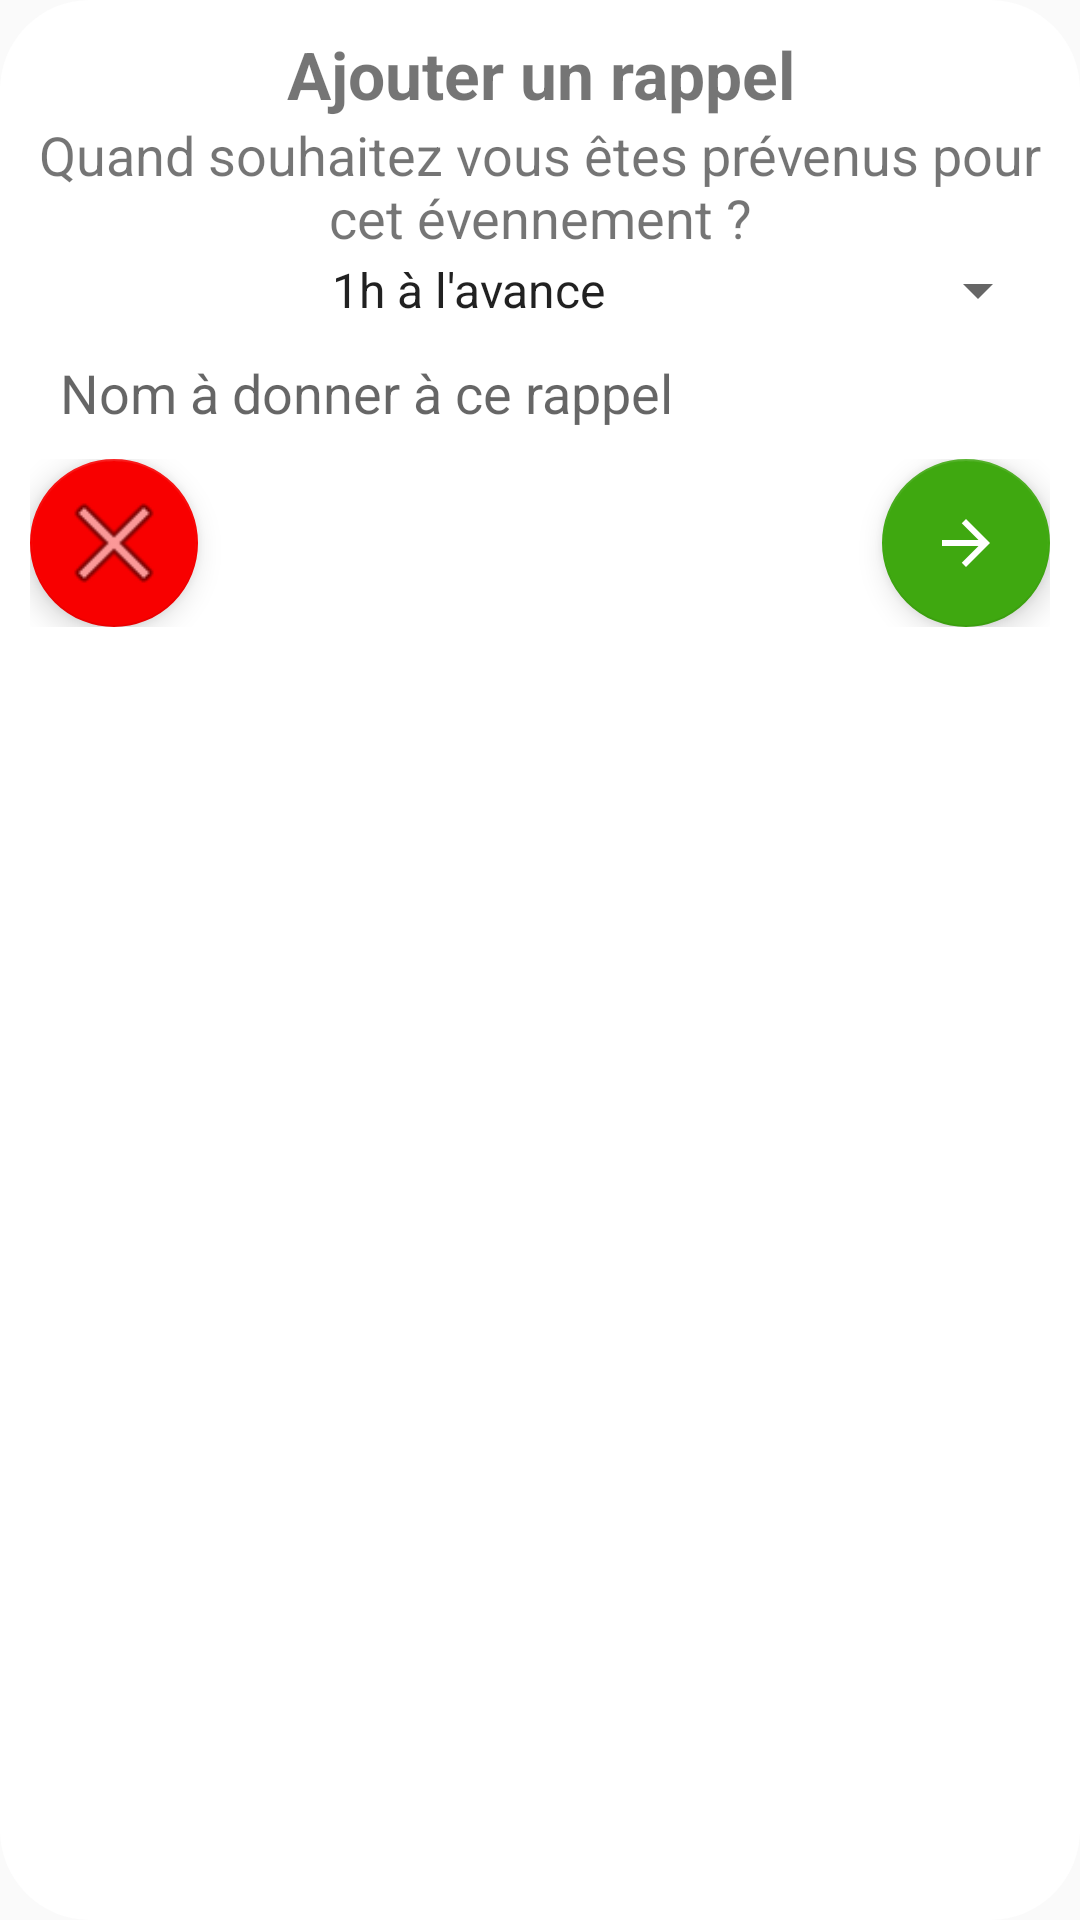

Where icons sit on this 1080 × 1920 app screen, as [x1=x1, y1=y1, x2=x2, y2=y2]:
arrow forward: [x1=882, y1=459, x2=1050, y2=627]
close clear cancel: [x1=30, y1=459, x2=198, y2=627]
